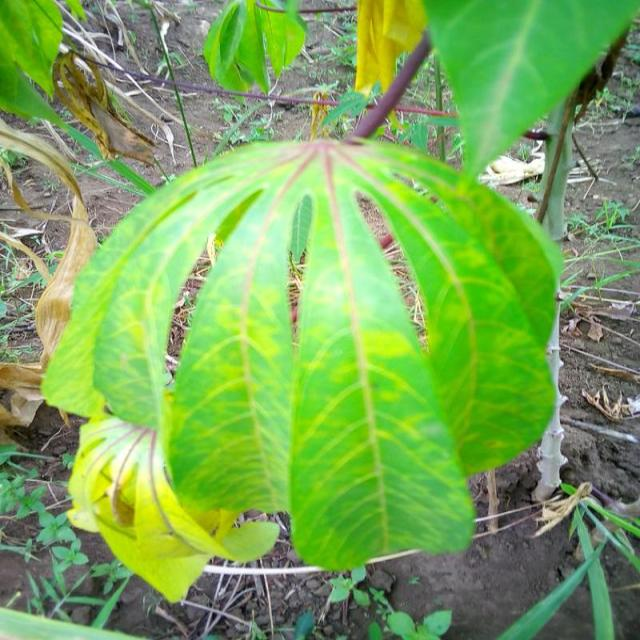cassava leaf: (42, 134, 564, 582), (423, 0, 640, 180)
